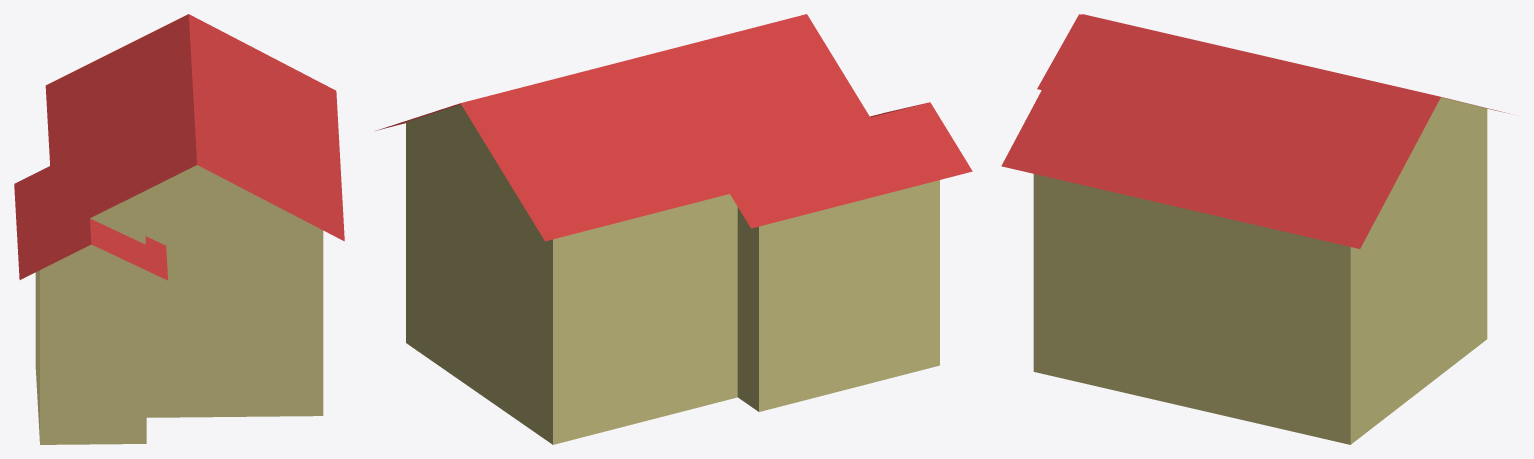
The picture shows the model from 3 angles, left to right: view 1: azimuth 30°, elevation 25°; view 2: azimuth 150°, elevation 25°; view 3: azimuth 270°, elevation 25°; orthographic projection. The views are drawn at different scales.
Parts seen in each view (by area): view 1: group_5, group_3, group_9, group_4, group_7, group_8; view 2: group_5, group_3, group_4; view 3: group_5, group_3, group_4.
Part boxes in pixels (<box>): group_5: <box>35,165,323,444</box>; group_3: <box>16,14,344,279</box>; group_9: <box>91,244,146,444</box>; group_4: <box>14,14,261,279</box>; group_7: <box>90,218,167,280</box>; group_8: <box>91,236,167,279</box>; group_5: <box>406,104,939,444</box>; group_3: <box>439,14,972,241</box>; group_4: <box>375,14,972,228</box>; group_5: <box>1033,97,1487,444</box>; group_3: <box>1001,14,1440,248</box>; group_4: <box>1082,14,1509,178</box>.
Bounding box in the file's own units: 17.46 × 16.21 × 10.32.
